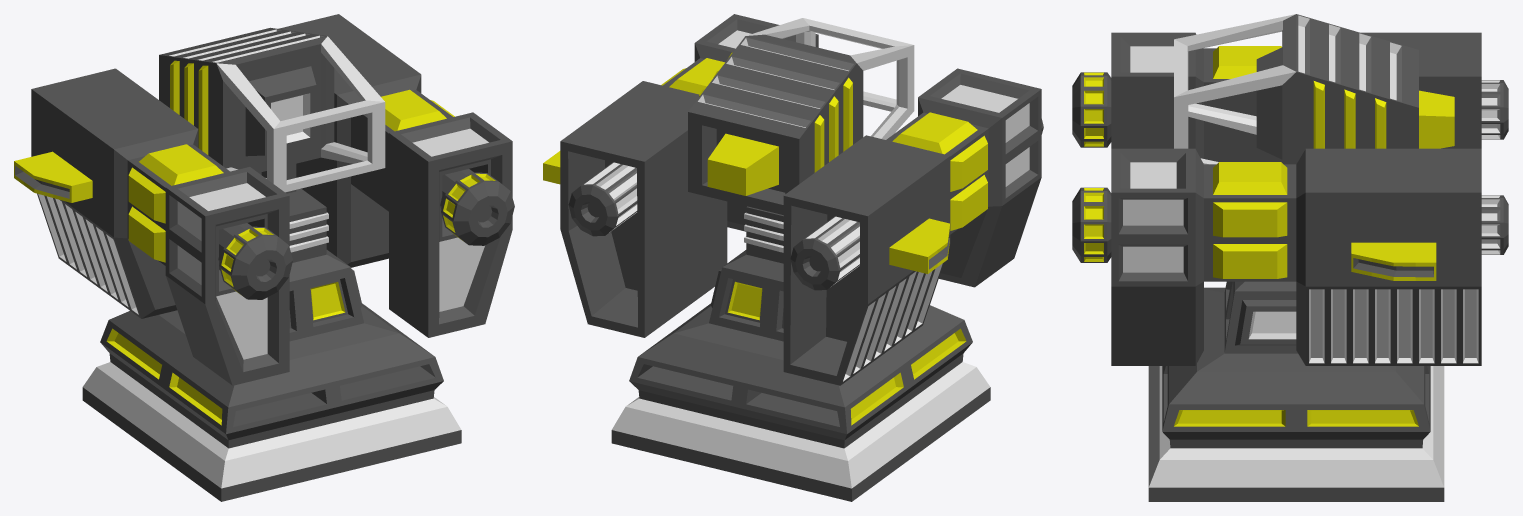
File: tower6_1.fbx
3 renders of one model, left to right at view 1: azimuth 30°, elevation 25°; view 2: azimuth 150°, elevation 25°; view 3: azimuth 270°, elevation 25°, orthographic. The views are drawn at different scales.
Parts seen in each view (by area): view 1: polySurface69; view 2: polySurface69; view 3: polySurface69.
Boxes of the visible parts, x1=… form: polySurface69: x1=14, y1=14, x2=514, y2=501; polySurface69: x1=543, y1=14, x2=1043, y2=501; polySurface69: x1=1072, y1=14, x2=1508, y2=501.
Bounding box in the file's own units: 0.7086 × 0.6551 × 0.6533.
